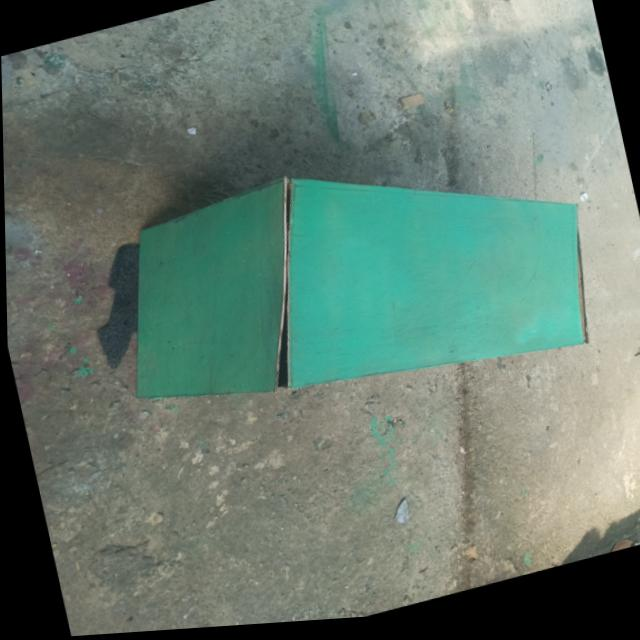green_box: (40, 92, 640, 489)
